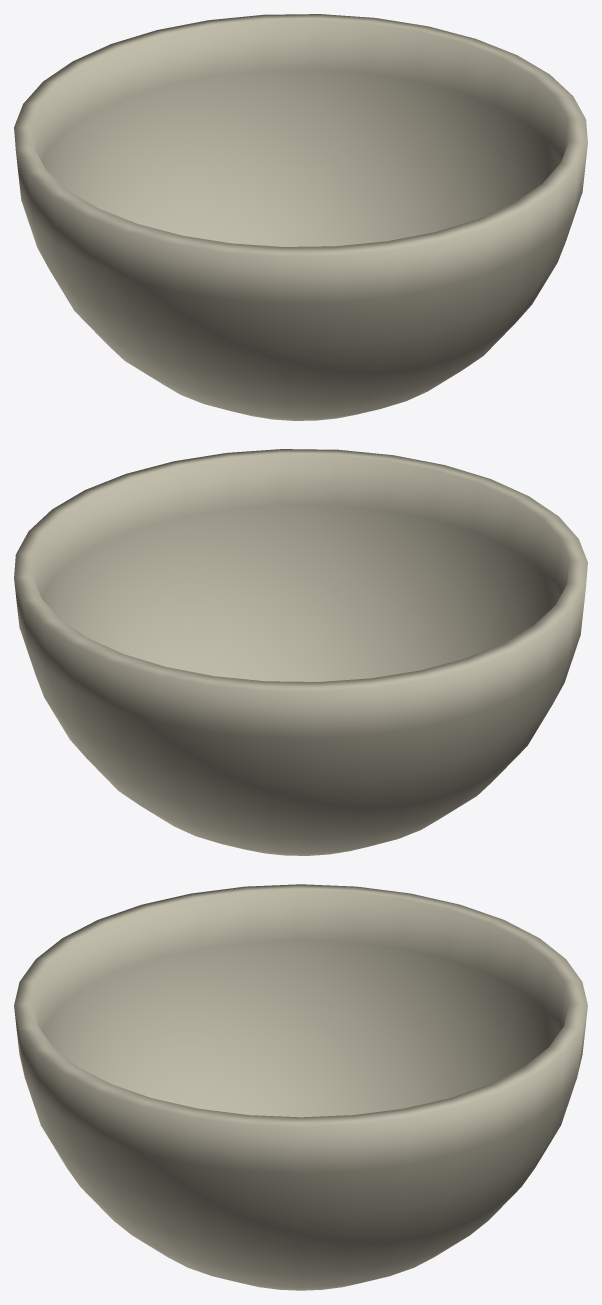
The picture shows the model from 3 angles, top to bottom: view 1: azimuth 30°, elevation 25°; view 2: azimuth 150°, elevation 25°; view 3: azimuth 270°, elevation 25°; orthographic projection.
Parts seen in each view (by area): view 1: Sphere; view 2: Sphere; view 3: Sphere.
Part boxes in pixels (left/top/right/bottom): Sphere: left=14, top=14, right=587, bottom=420; Sphere: left=14, top=449, right=587, bottom=855; Sphere: left=14, top=884, right=587, bottom=1290.
Bounding box in the file's own units: 2.82 × 1.41 × 2.82.
